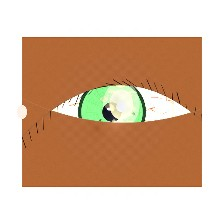corneal_ulcer: (97, 85, 146, 124)
